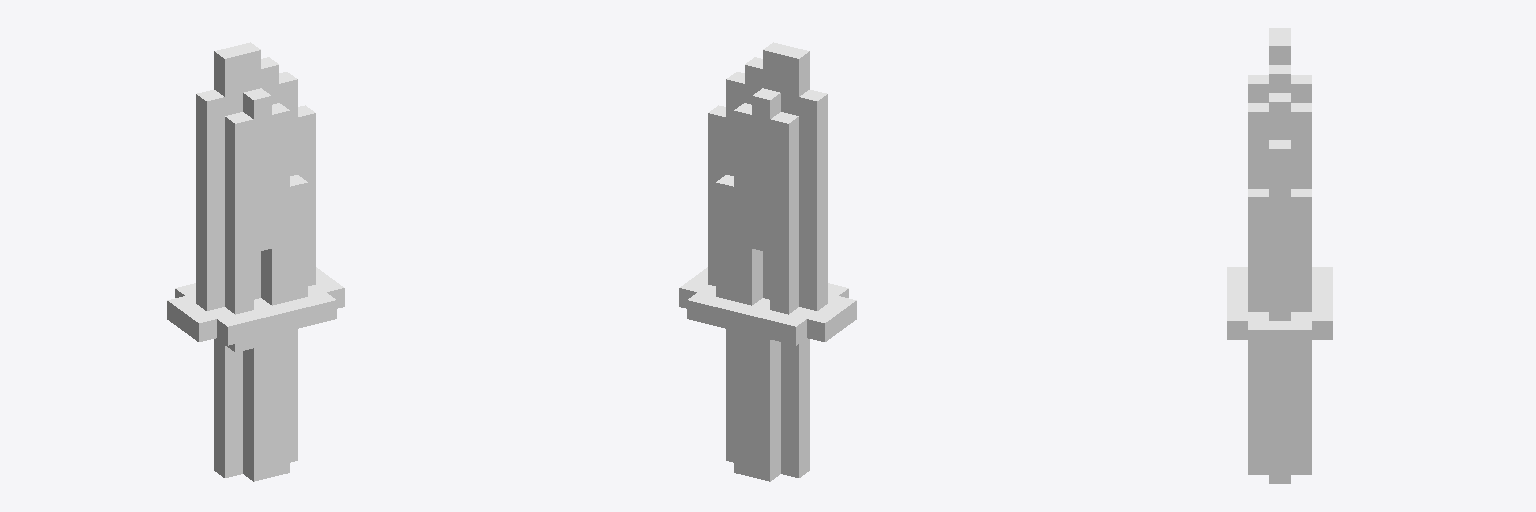
The model's file is dagger.obj.
3 renders of one model, left to right at view 1: azimuth 30°, elevation 25°; view 2: azimuth 150°, elevation 25°; view 3: azimuth 270°, elevation 25°, orthographic.
Visible parts, largest first — view 1: object 1; view 2: object 1; view 3: object 1.
Part boxes in pixels (left/top/right/bottom): object 1: left=167, top=42, right=344, bottom=481; object 1: left=679, top=42, right=856, bottom=481; object 1: left=1227, top=28, right=1332, bottom=483.
Bounding box in the file's own units: 0.8 × 2.2 × 0.5.